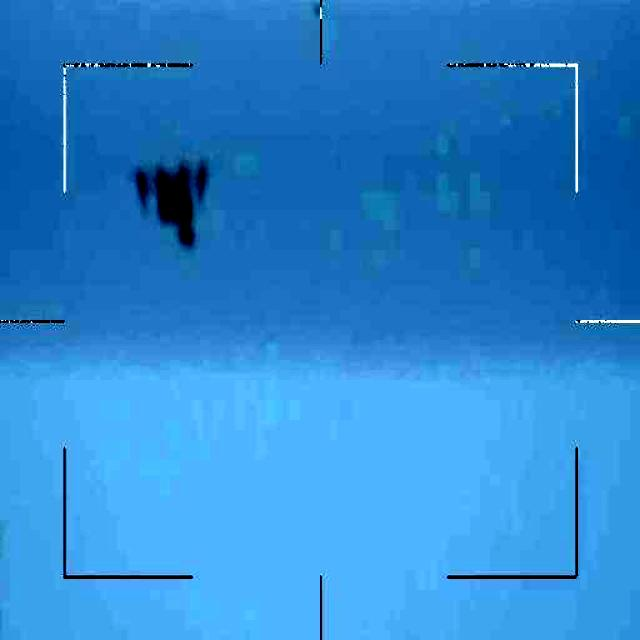bird: (130, 154, 215, 251)
